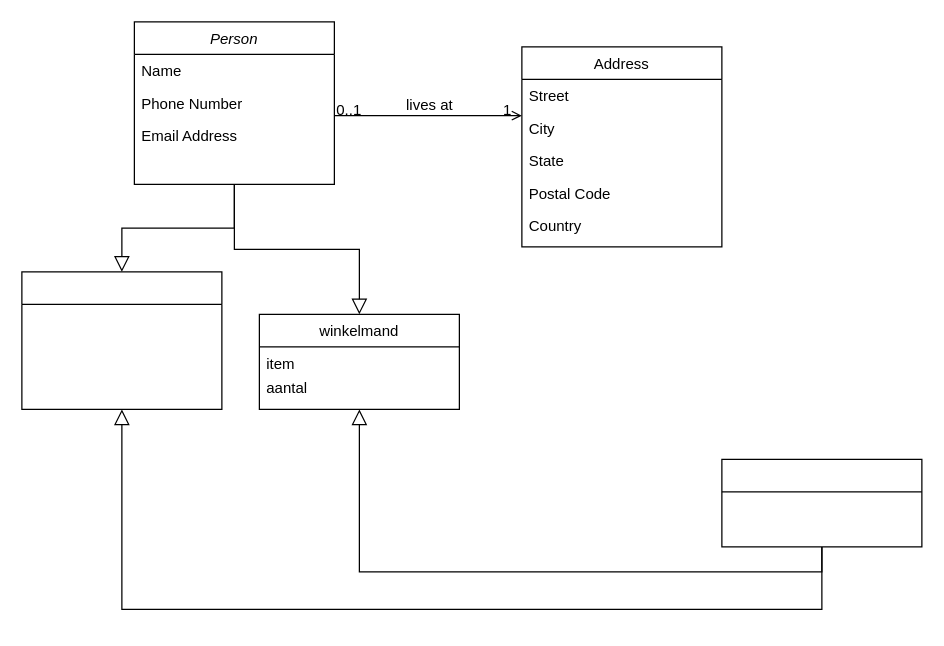
Image size: 944x646. Some labels were removed from this diagram. The shapes that lost their labels are listed below. From the top down, each one's centre as x and y in pixels, then its label:
At pixel 121 340: "history".
At pixel 821 502: "products".
